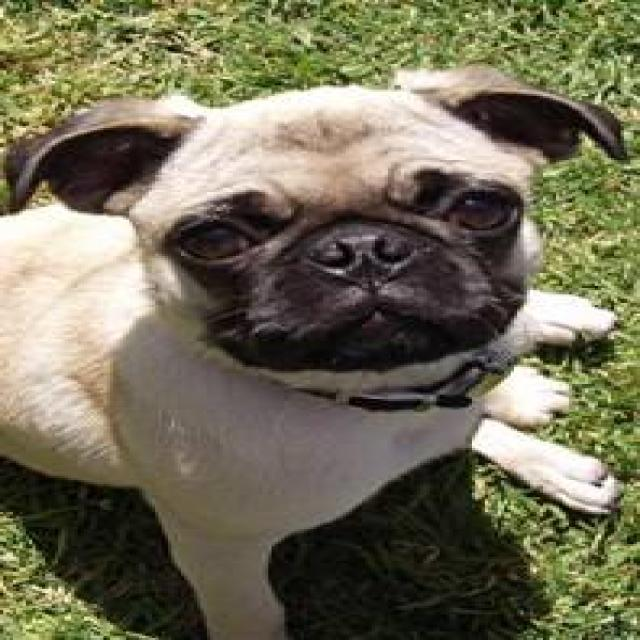dog-pug: (3, 60, 634, 636)
